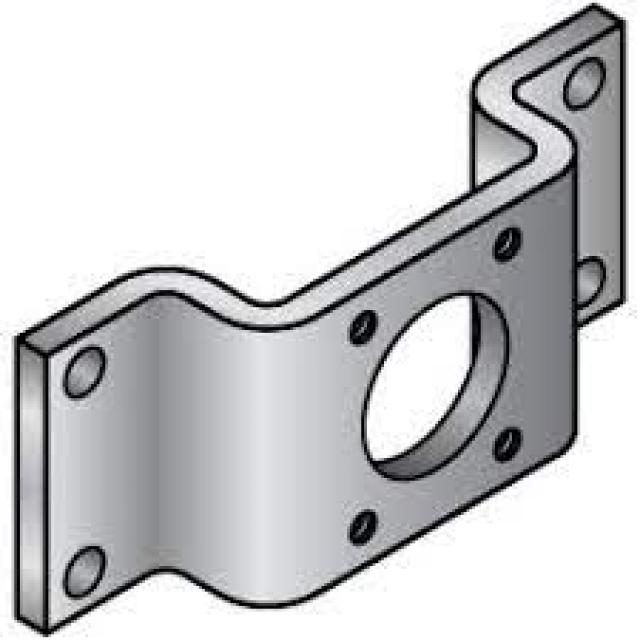holes: (558, 52, 611, 114), (60, 344, 105, 398), (63, 543, 105, 597), (572, 255, 608, 301), (487, 426, 529, 459), (492, 225, 521, 262), (347, 506, 375, 543), (347, 307, 375, 344)
